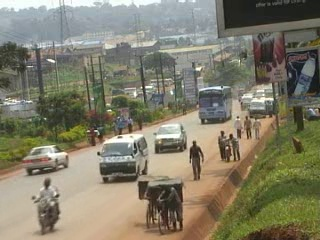Car: (23, 143, 71, 174), (151, 122, 188, 154)
Motorcycle: (30, 183, 60, 235), (217, 138, 237, 162)
